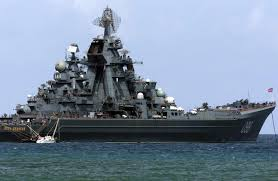tau_muctieu: (3, 20, 272, 150)
